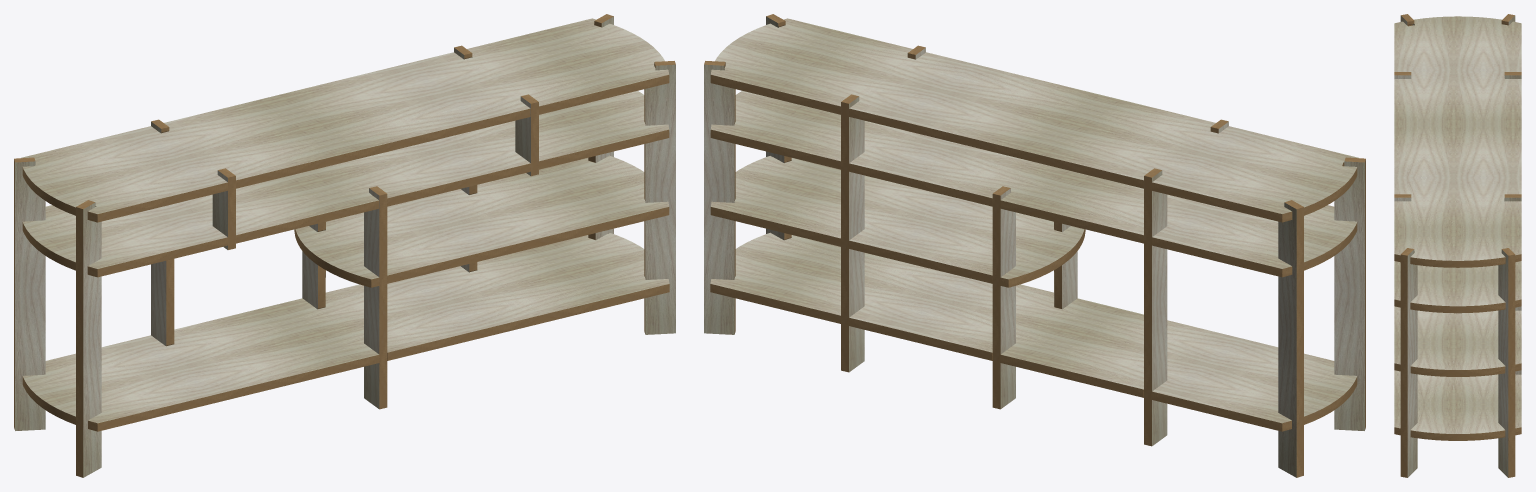
The model's file is NODO_RACK_KIRI_MDF_V3_AR_PRUEBA (1).glb.
The picture shows the model from 3 angles, left to right: view 1: azimuth 30°, elevation 25°; view 2: azimuth 150°, elevation 25°; view 3: azimuth 270°, elevation 25°; orthographic projection. The views are drawn at different scales.
Parts seen in each view (by area): view 1: A_KIRI, C_KIRI, B_KIRI, D_KIRI, G_right_front_KIRI, F_left_rear_KIRI, F_left_front_KIRI, H_front_KIRI, F_rear_KIRI, E_front_R_KIRI, E_front_L_KIRI, H_rear_KIRI; view 2: A_KIRI, C_KIRI, B_KIRI, D_KIRI, G_right_rear_KIRI, F_left_front_KIRI, F_left_rear_KIRI, F_rear_KIRI, G_rear_KIRI, H_rear_KIRI, H_front_KIRI; view 3: A_KIRI, C_KIRI, D_KIRI, B_KIRI, G_right_front_KIRI, G_right_rear_KIRI, G_rear_KIRI.
Boxes of the visible parts, x1,y1,x2,y2 form: A_KIRI: [21, 18, 669, 222]; C_KIRI: [22, 233, 669, 431]; B_KIRI: [22, 91, 669, 277]; D_KIRI: [294, 155, 669, 287]; G_right_front_KIRI: [644, 61, 675, 334]; F_left_rear_KIRI: [14, 157, 45, 430]; F_left_front_KIRI: [76, 200, 101, 477]; H_front_KIRI: [364, 186, 387, 409]; F_rear_KIRI: [151, 119, 174, 346]; E_front_R_KIRI: [515, 94, 538, 176]; E_front_L_KIRI: [212, 168, 235, 249]; H_rear_KIRI: [302, 221, 325, 309]; A_KIRI: [710, 18, 1358, 222]; C_KIRI: [710, 232, 1357, 431]; B_KIRI: [710, 91, 1357, 277]; D_KIRI: [710, 156, 1085, 287]; G_right_rear_KIRI: [704, 61, 735, 334]; F_left_front_KIRI: [1334, 157, 1365, 430]; F_left_rear_KIRI: [1278, 200, 1303, 477]; F_rear_KIRI: [1144, 168, 1167, 446]; G_rear_KIRI: [841, 94, 864, 372]; H_rear_KIRI: [992, 186, 1015, 409]; H_front_KIRI: [1054, 221, 1077, 309]; A_KIRI: [1394, 16, 1521, 267]; C_KIRI: [1394, 370, 1521, 440]; D_KIRI: [1394, 306, 1521, 376]; B_KIRI: [1394, 261, 1521, 313]; G_right_front_KIRI: [1400, 248, 1417, 477]; G_right_rear_KIRI: [1498, 248, 1515, 477]; G_rear_KIRI: [1504, 194, 1521, 374].
Bounding box in the file's own units: 1.36 × 0.578 × 0.3.
Materials: 2 (2 with a texture image).
